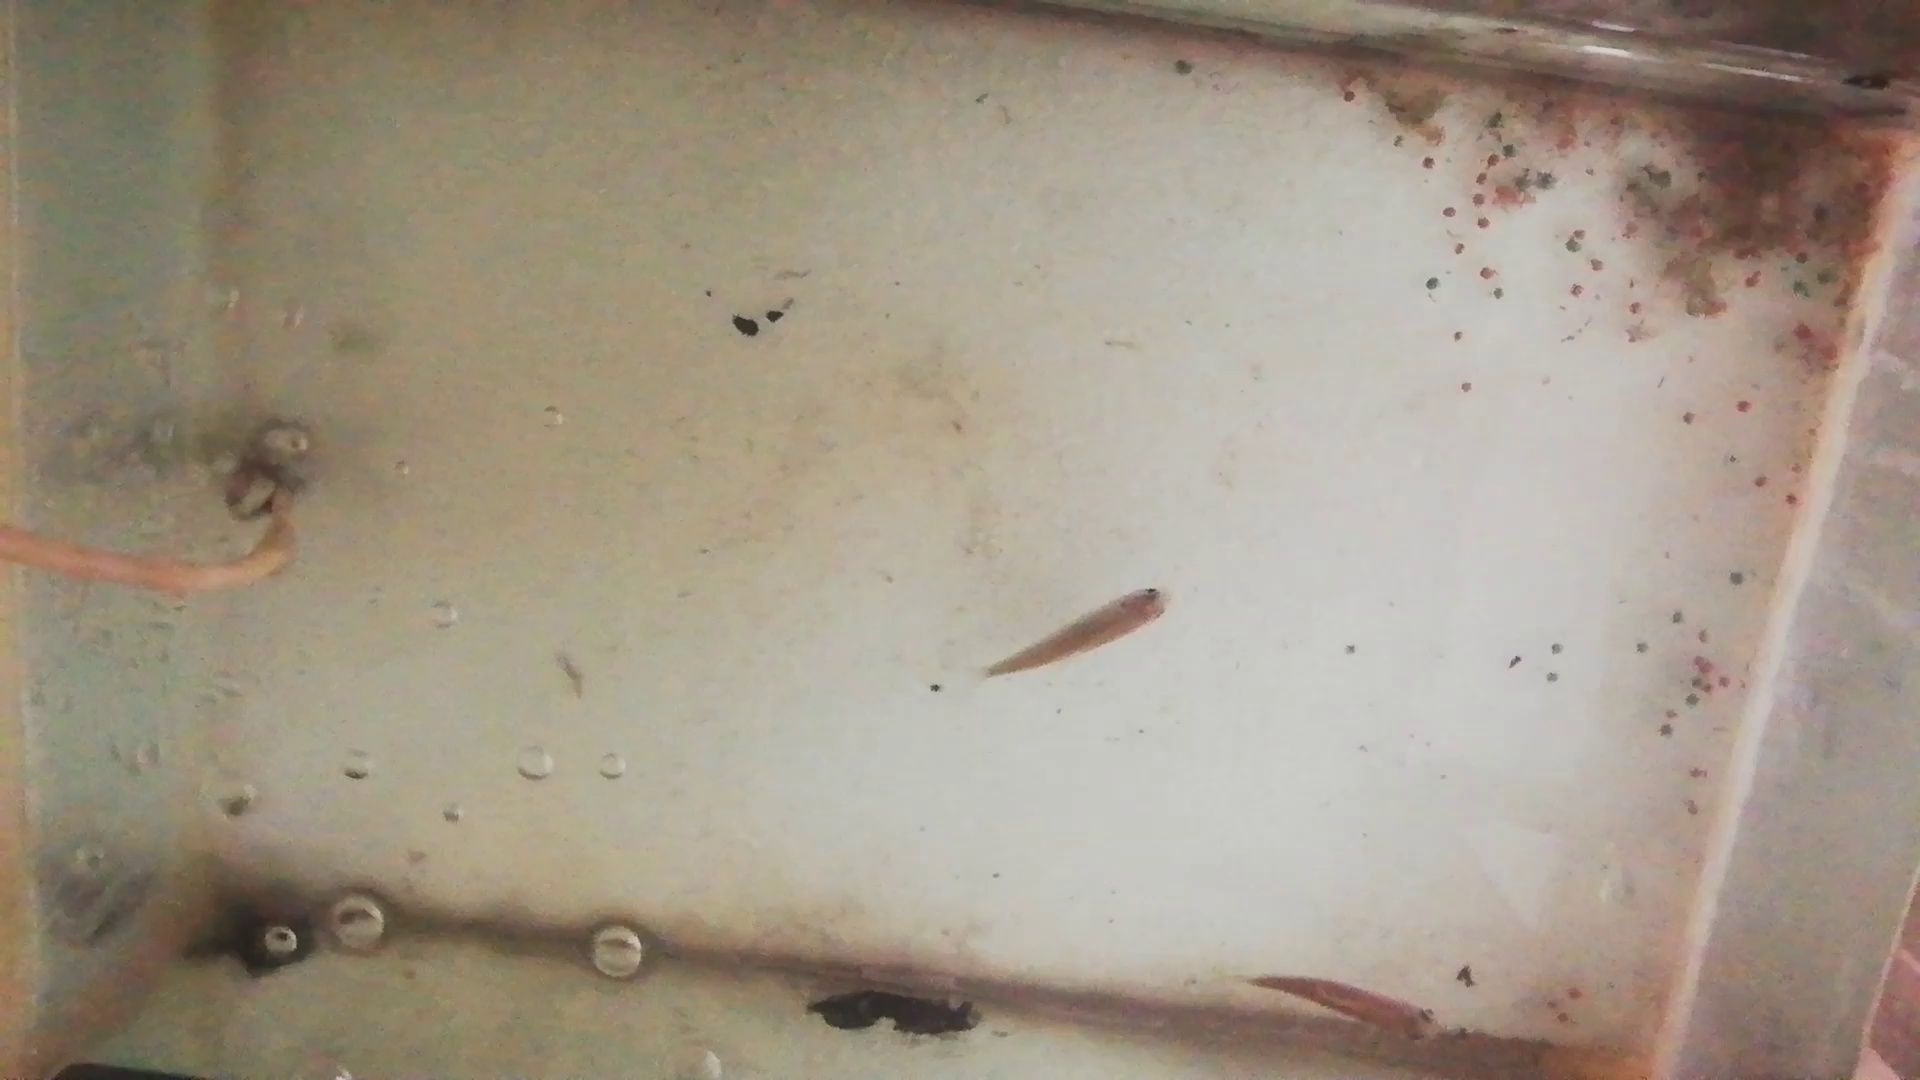fish: (988, 587, 1178, 676), (1253, 975, 1445, 1044)
